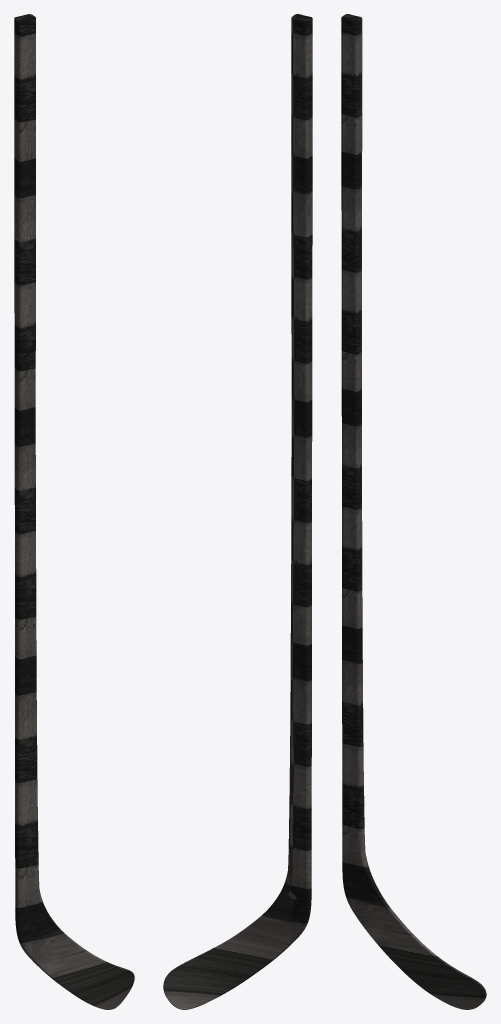
Rendered from P114-SBT.glb.
3 views of the same model, side by side, from view 1: azimuth 30°, elevation 25°; view 2: azimuth 150°, elevation 25°; view 3: azimuth 330°, elevation 25° (orthographic). The views are drawn at different scales.
Parts seen in each view (by area): view 1: geometry_0; view 2: geometry_0; view 3: geometry_0.
Boxes of the visible parts, x1=… form: geometry_0: x1=14, y1=14, x2=134, y2=1009; geometry_0: x1=163, y1=14, x2=312, y2=1009; geometry_0: x1=341, y1=14, x2=486, y2=1009.
Bounding box in the file's own units: 225 × 1650 × 62.19.
1 material, 1 textured.
